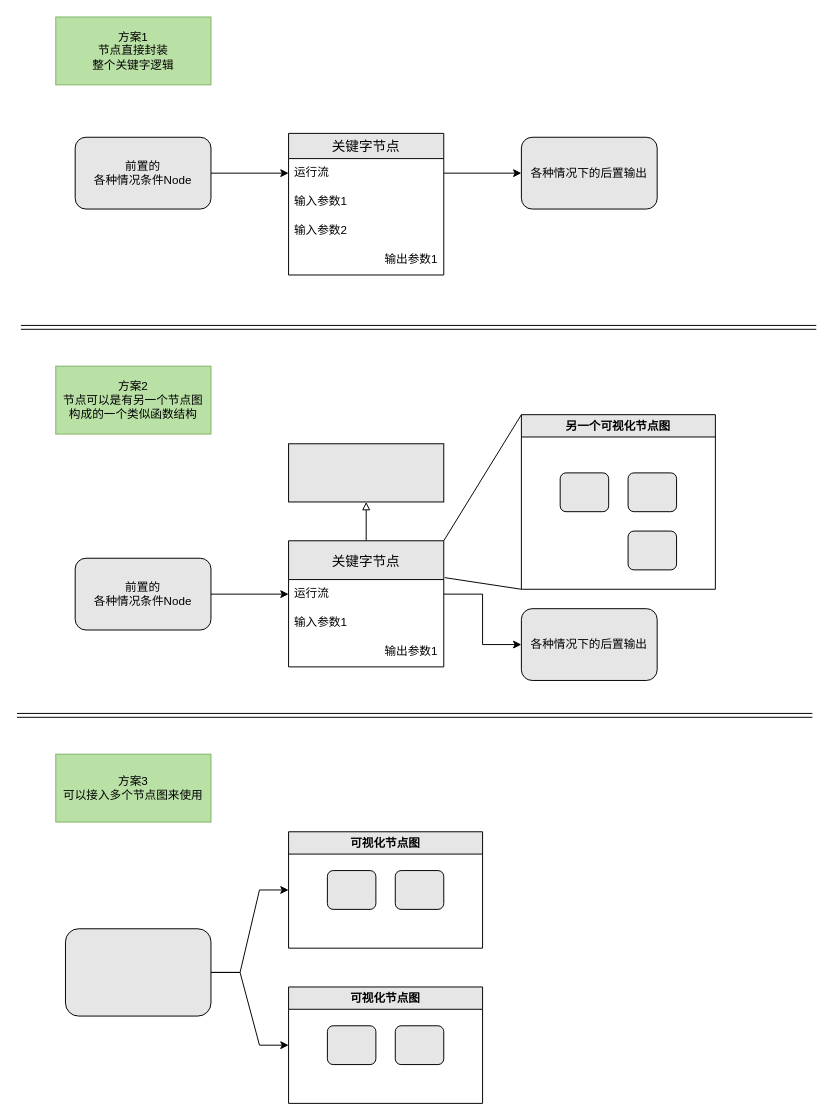
The diagram is 833 pixels wide and 1120 high, and some of its shapes have lost their labels. The shapes that lost their labels are listed below. From the top down, each one's centre as x and y in pixels, then its label:
At (366,472): "特殊节点类型 关联一个节点图 可以在节点图定义暴漏参数".
At (138,972): "两个节点图都挂起 按照前面所述 对于两个图中逻辑结构 会一同触发，先后处理 但两者处于一个无关状态".
